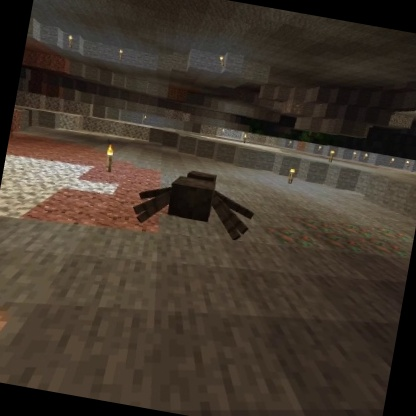spider: (128, 157, 265, 248)
